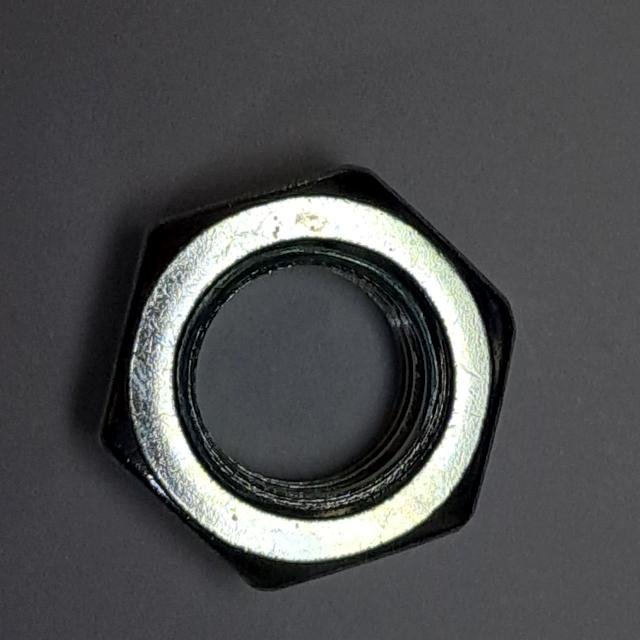Excellent: (87, 147, 524, 610)
